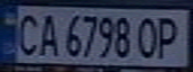6: (60, 10, 84, 57)
7: (78, 11, 100, 58)
8: (112, 12, 136, 60)
9: (97, 12, 118, 59)
A: (33, 10, 60, 57)
C: (12, 10, 42, 57)
O: (133, 13, 163, 60)
P: (151, 14, 187, 61)
